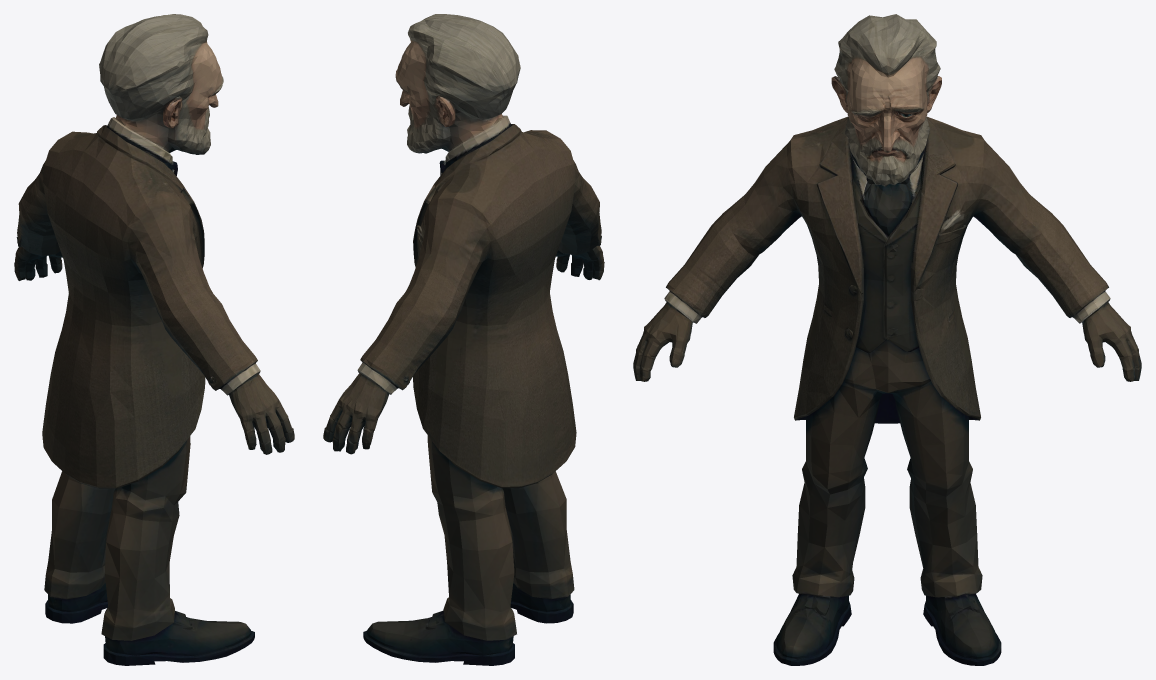
File: Arthur_v1.fbx
3 views of the same model, side by side, from view 1: azimuth 30°, elevation 25°; view 2: azimuth 150°, elevation 25°; view 3: azimuth 270°, elevation 25° (orthographic). The views are drawn at different scales.
Parts seen in each view (by area): view 1: tripo_node_316d16ee; view 2: tripo_node_316d16ee; view 3: tripo_node_316d16ee.
Part boxes in pixels (bbox=[...]): tripo_node_316d16ee: bbox=[14, 14, 294, 665]; tripo_node_316d16ee: bbox=[323, 14, 604, 665]; tripo_node_316d16ee: bbox=[633, 14, 1141, 665].
Bounding box in the file's own units: 1.33 × 0.4821 × 1.8.
1 material, 1 textured.
